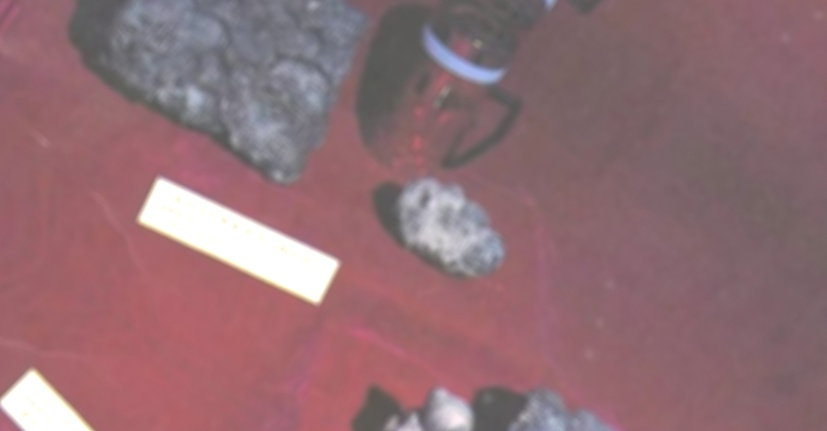halobolite: (73, 1, 413, 205), (392, 191, 507, 266)
